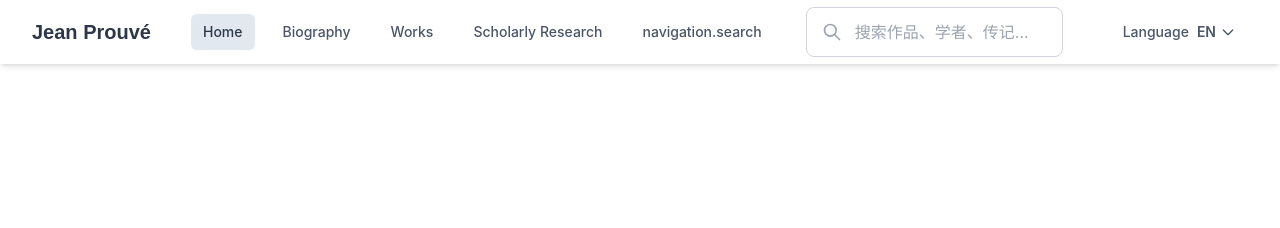
Test: MainNavigation › Language Switching Functionality › shows language dropdown when language button is clicked
Click the button "Language EN" at (1179, 32), box [1111,10,1248,54]
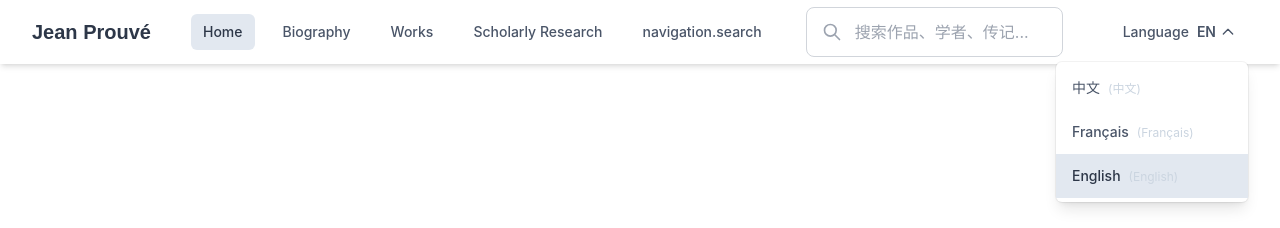
Now the text "中文" is shown, box [1072,79,1100,96]
Now the text "Français" is shown, box [1072,123,1129,140]
Now the text "English" is shown, box [1072,167,1121,184]
